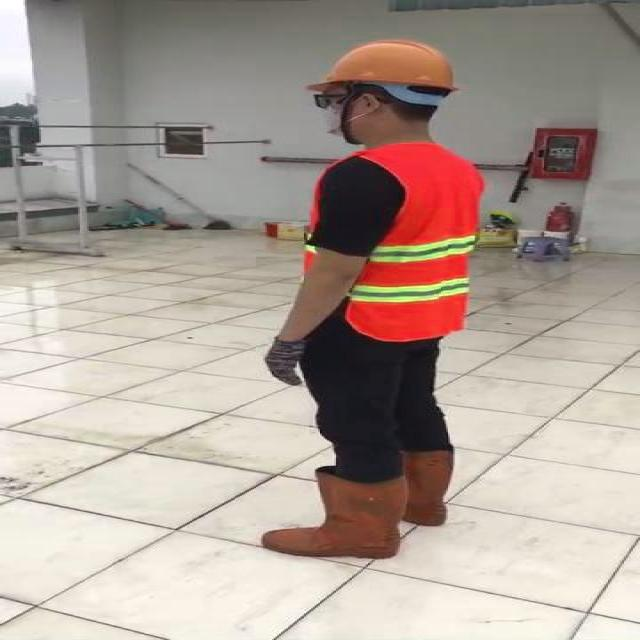boots: (259, 472, 406, 560), (340, 440, 460, 527)
hand_glove: (263, 337, 313, 388)
head_helmet: (310, 40, 462, 94)
person: (233, 34, 505, 568)
vest: (352, 144, 492, 338)
